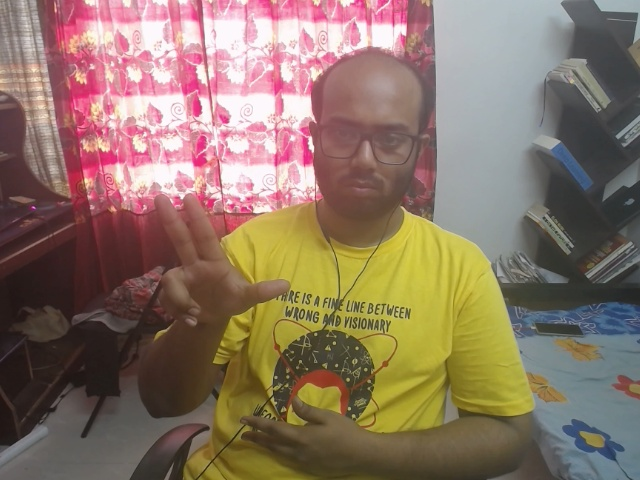eight: (135, 177, 309, 348)
